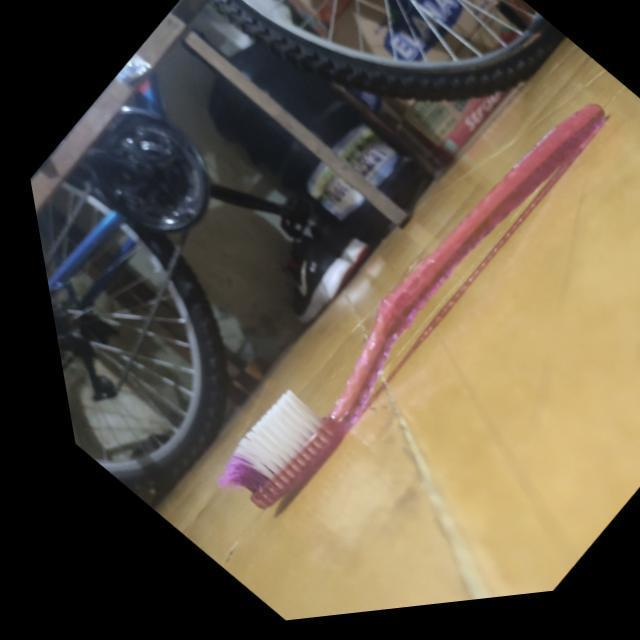toothbrush: (127, 52, 640, 563)
